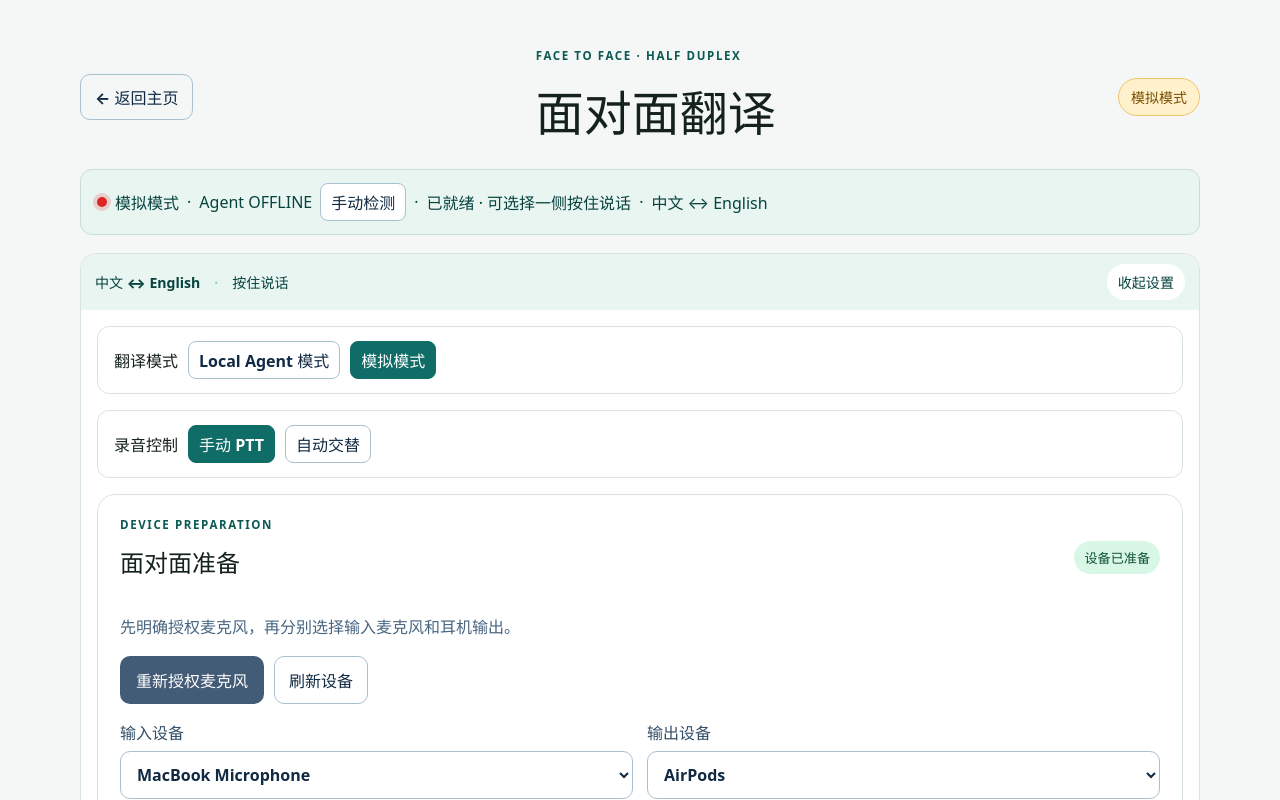
Scenario: FaceToFacePage › automatically records left, lets right interrupt immediately, and resumes left on release
This screenshot has width=1280, height=800.
Click the button "自动交替": (328, 444) [285,425,371,463]
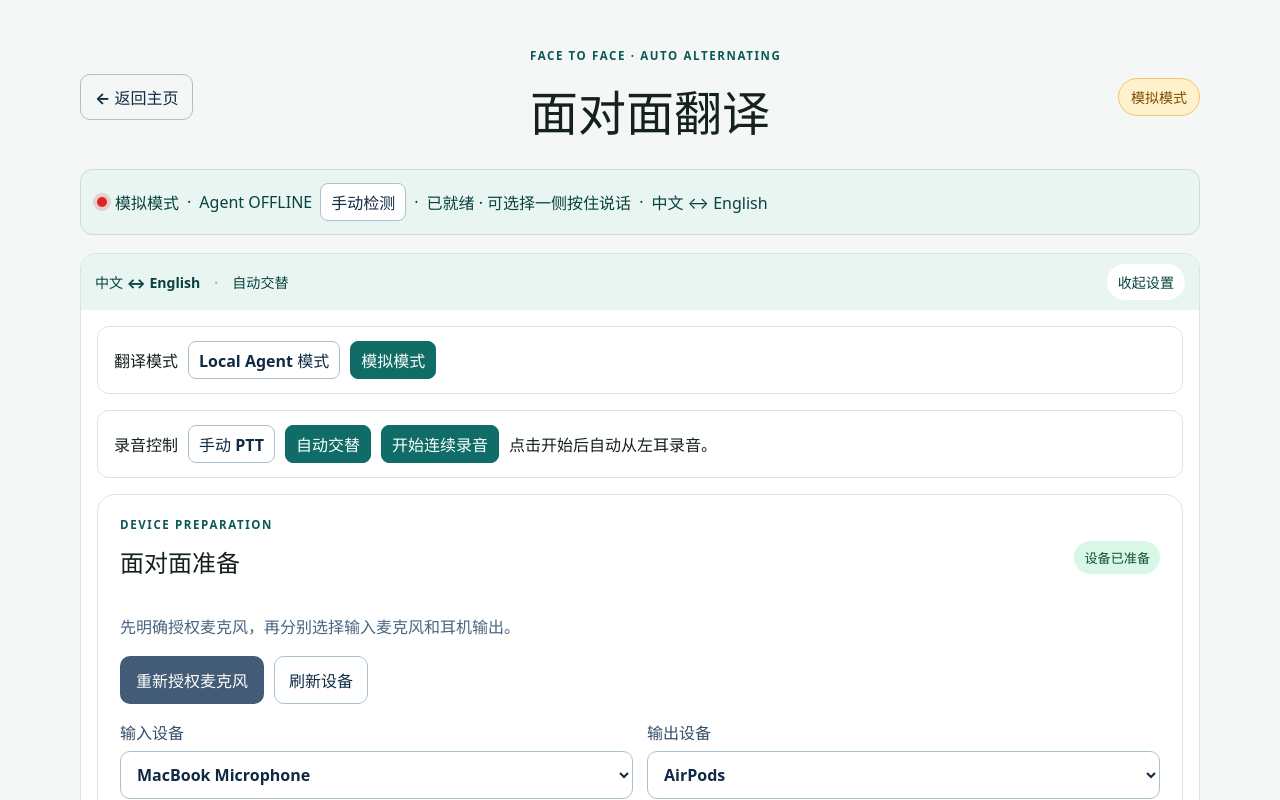
Click the button "开始连续录音": (440, 444) [381,425,499,463]
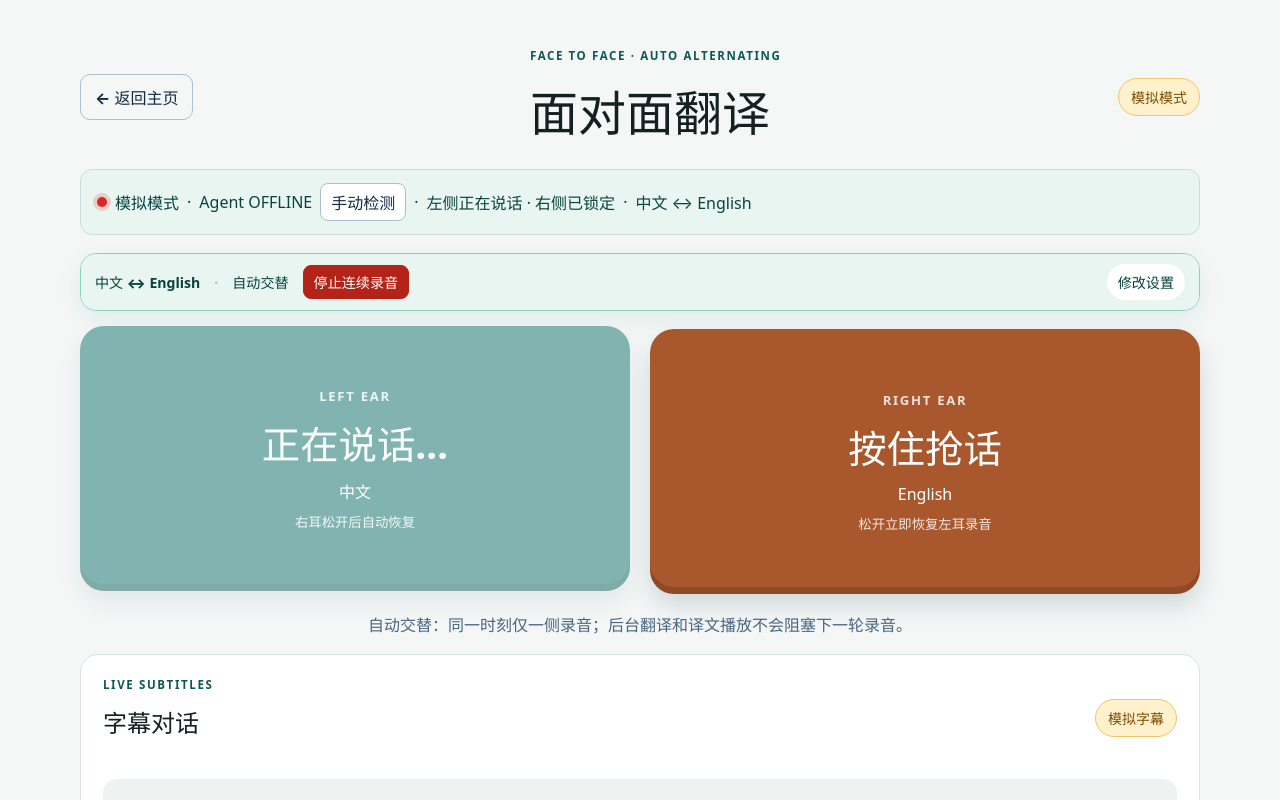
Press the mouse on the button "RIGHT EAR 按住抢话 English 松开立即恢复左耳录音": (925, 462) [650,329,1200,594]
Click the button "停止连续录音": (356, 282) [303,265,409,299]
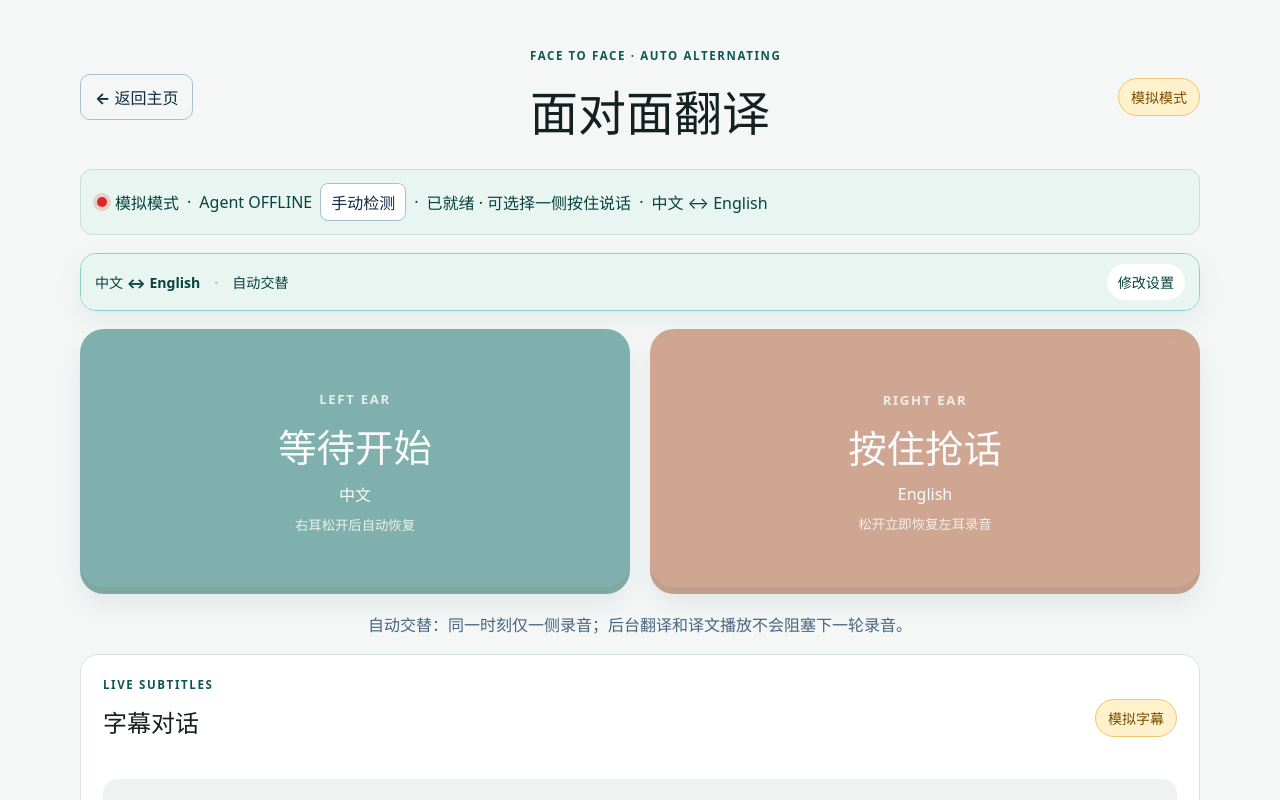
Click the button "修改设置": (1146, 282) [1107,264,1185,300]
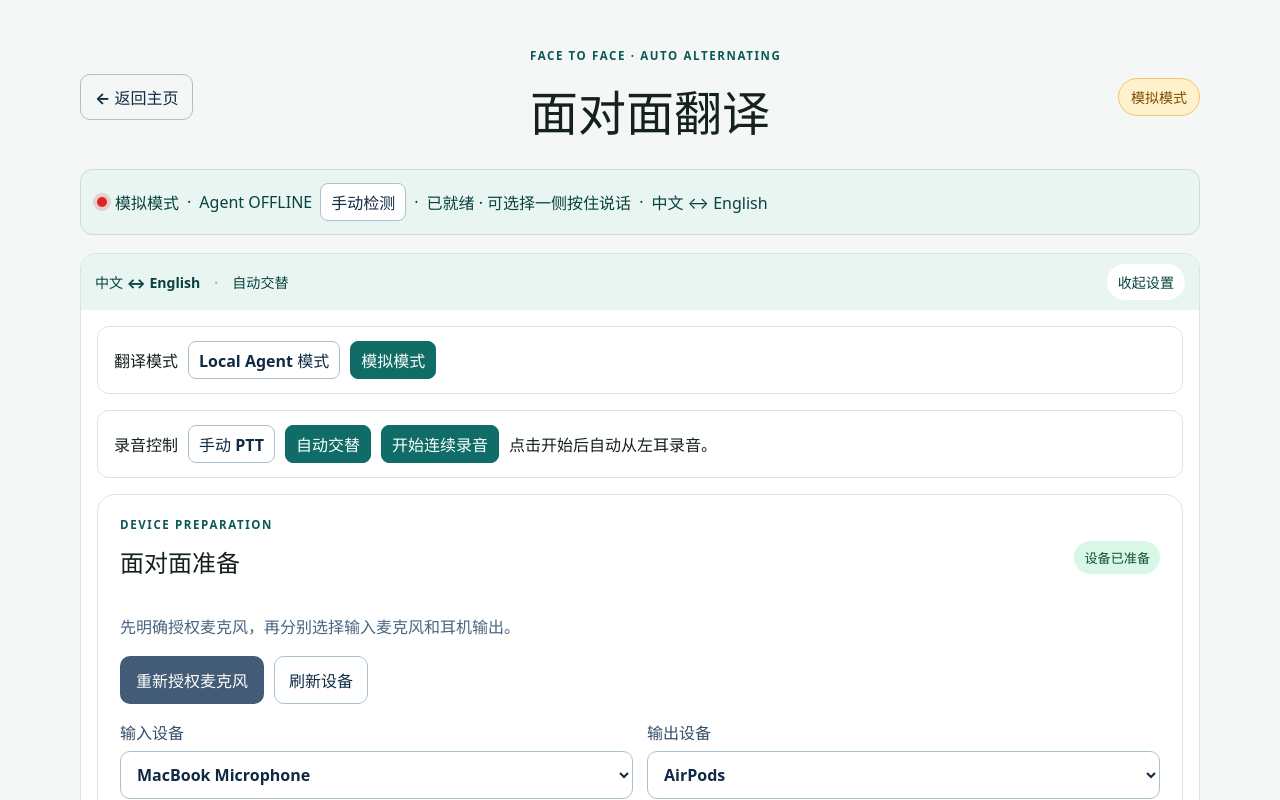
Check: the button "开始连续录音" is shown, box [381,425,499,463]
